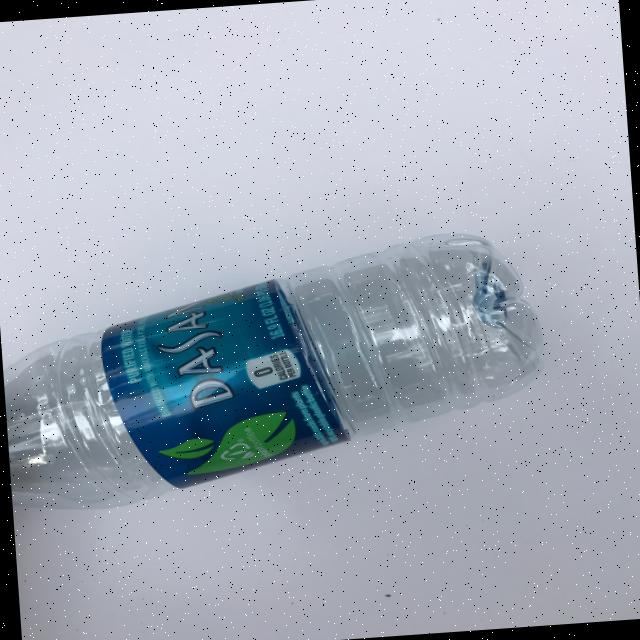plastic: (0, 225, 553, 516)
